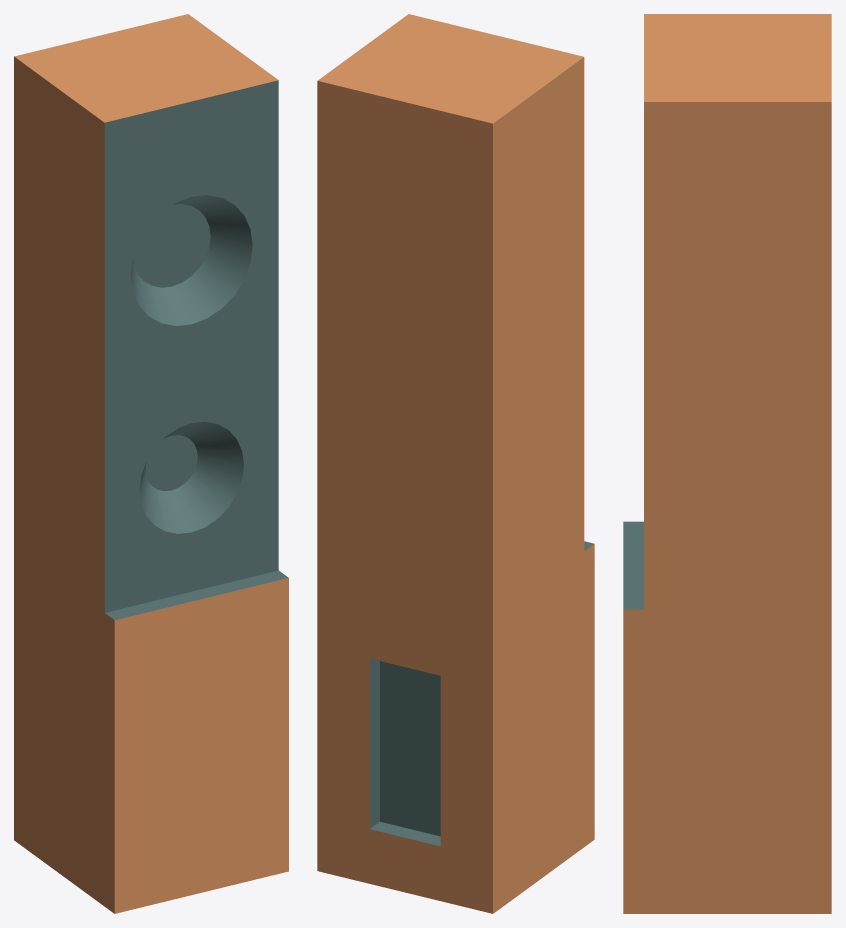
File: speaker.glb
3 views of the same model, side by side, from view 1: azimuth 30°, elevation 25°; view 2: azimuth 150°, elevation 25°; view 3: azimuth 270°, elevation 25° (orthographic). The views are drawn at different scales.
Parts seen in each view (by area): view 1: speaker; view 2: speaker; view 3: speaker.
Boxes of the visible parts, x1,y1,x2,y2 form: speaker: (14,14,288,913); speaker: (317,14,594,913); speaker: (623,14,831,913).
Size of the model in its own units: 0.3397 by 1.46 by 0.3397.
